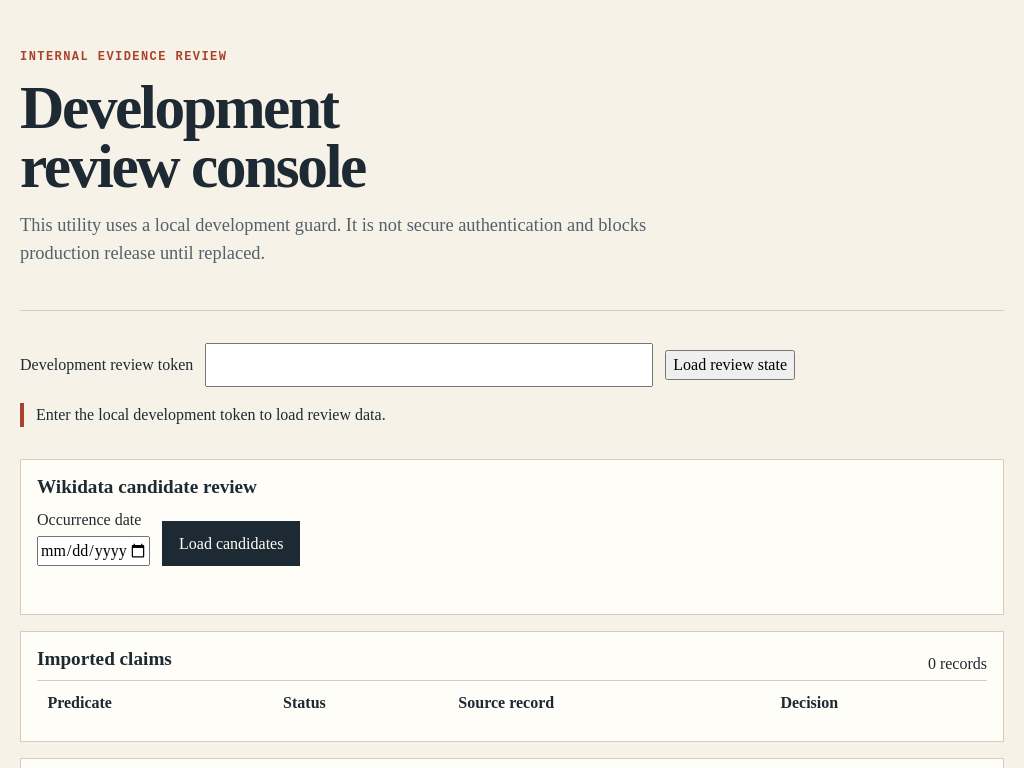
Test: development review console › ignores a late response after the date changes
The image size is (1024, 768).
Type "1964-03-27" into the date field labelled "Occurrence date" at (94, 551), box [37,536,150,566]
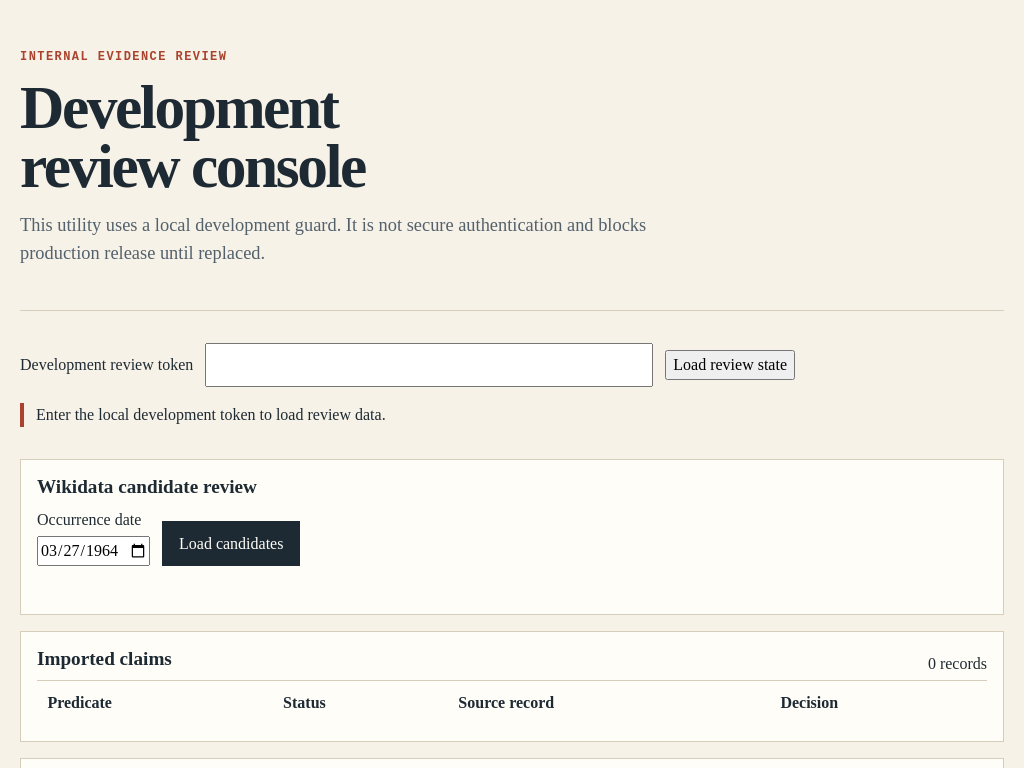
Click the button "Load candidates" at (231, 544), box [162,521,300,566]
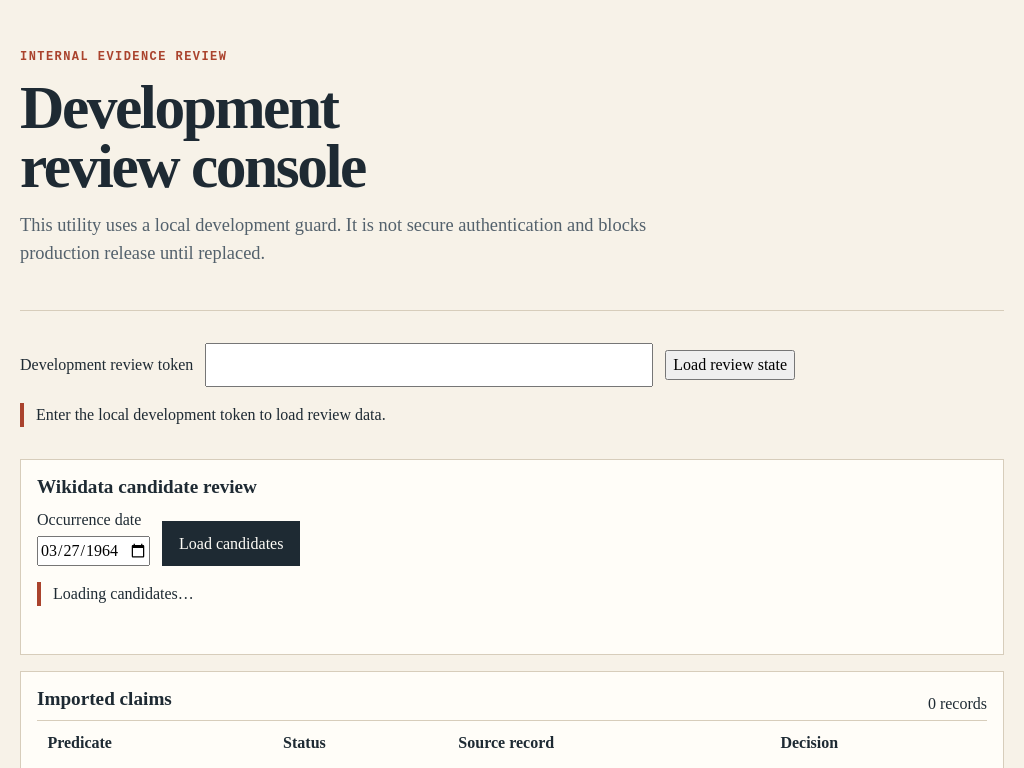
Type "1964-03-28" into the date field labelled "Occurrence date" at (94, 551), box [37,536,150,566]
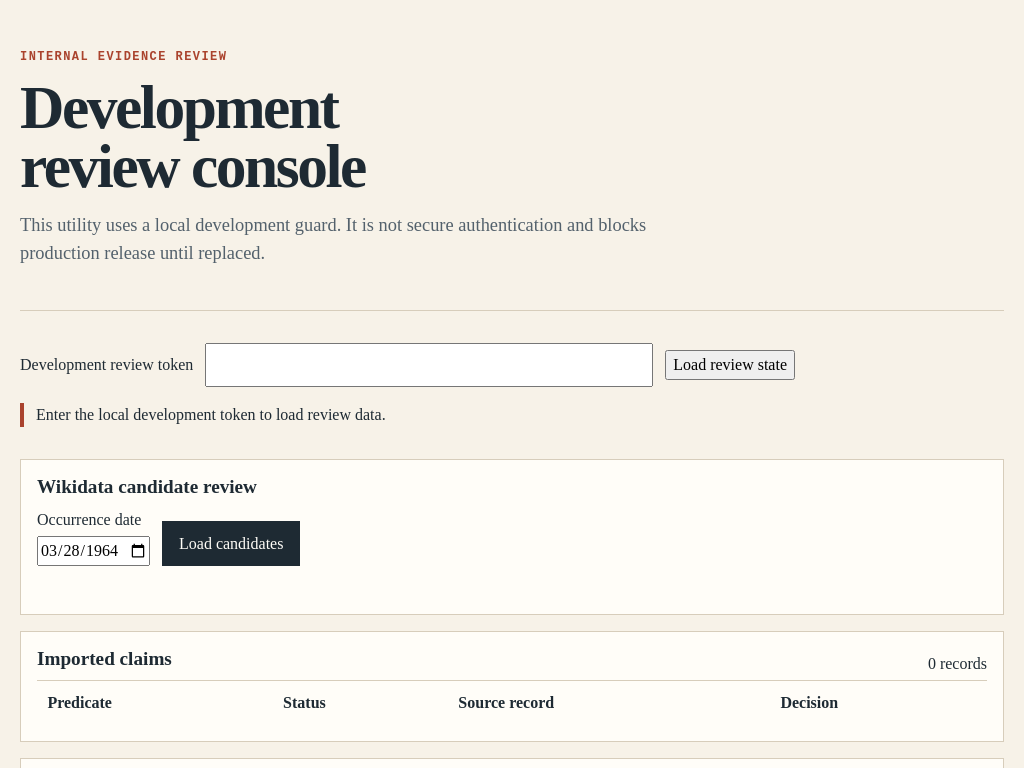
Click the button "Load candidates" at (231, 544), box [162,521,300,566]
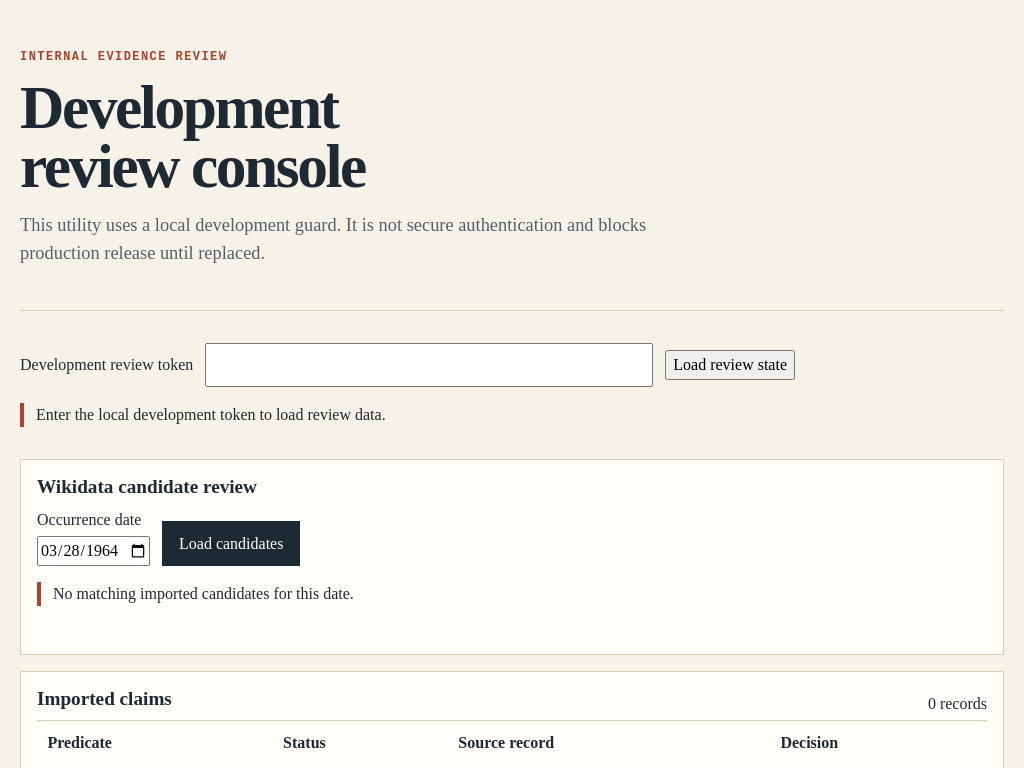
Expected: the text "No matching imported candidates for this date." is shown, [37,582,987,606]
